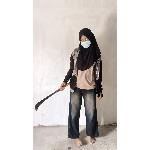Golok: (33, 80, 75, 112)
